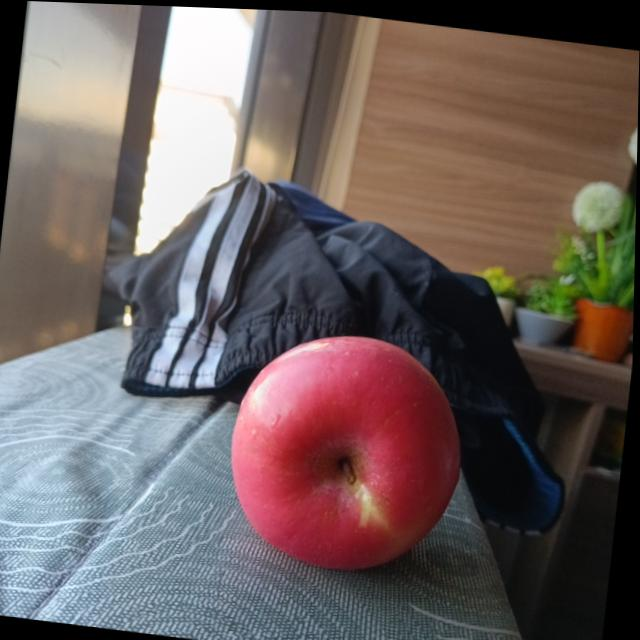apple: (221, 320, 475, 579)
